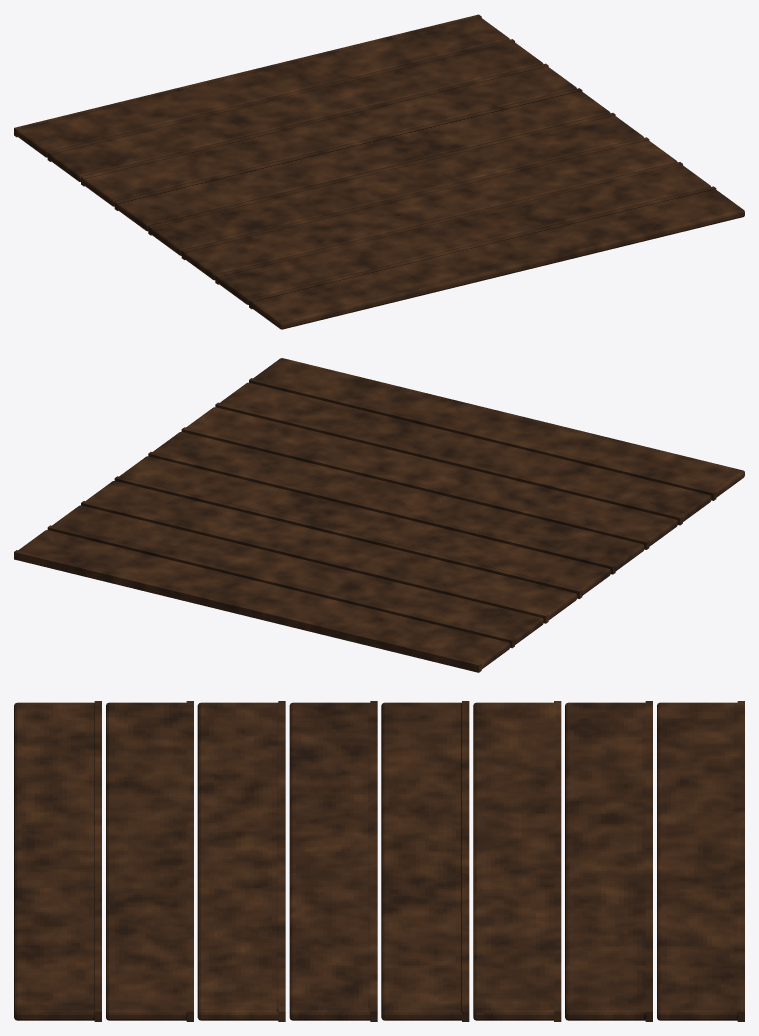
File: room_floor_snow.glb
The picture shows the model from 3 angles, top to bottom: view 1: azimuth 30°, elevation 25°; view 2: azimuth 150°, elevation 25°; view 3: azimuth 270°, elevation 25°; orthographic projection. The views are drawn at different scales.
Parts seen in each view (by area): view 1: room_floor_snow.001; view 2: room_floor_snow.001; view 3: room_floor_snow.001.
Boxes of the visible parts, bbox=[...] form: room_floor_snow.001: bbox=[14, 14, 744, 329]; room_floor_snow.001: bbox=[14, 358, 744, 672]; room_floor_snow.001: bbox=[14, 701, 744, 1021].
Bounding box in the file's own units: 2 × 0.031 × 1.99.
1 material, 1 textured.
